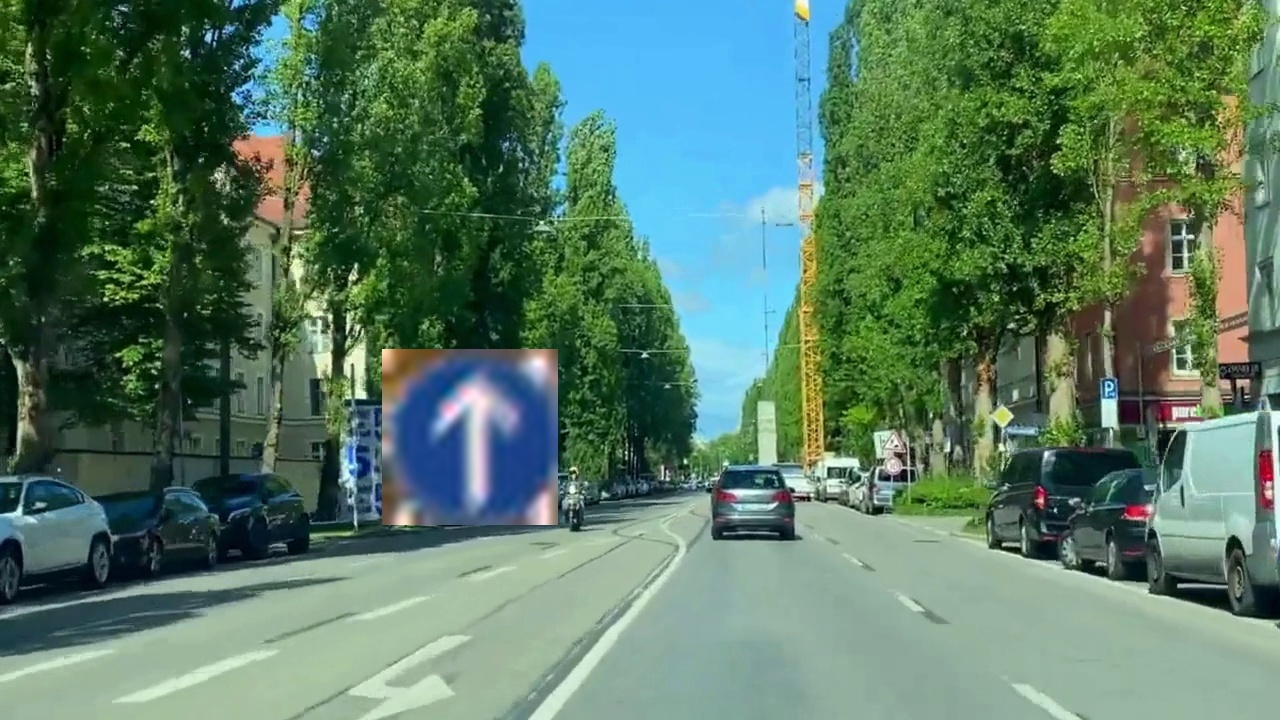Ahead only: (382, 349, 558, 525)
